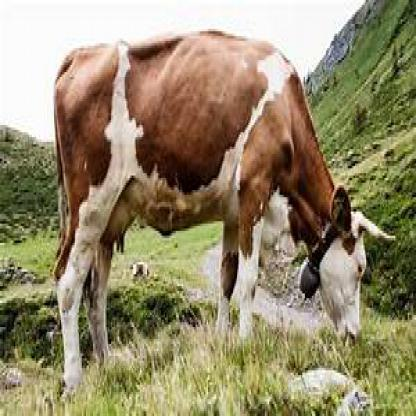cow: (54, 29, 395, 392)
